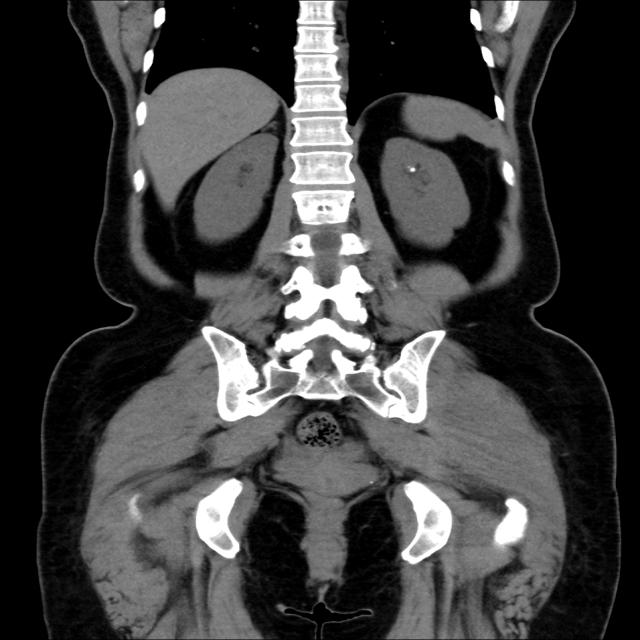kidneystone: (409, 162, 420, 176)
